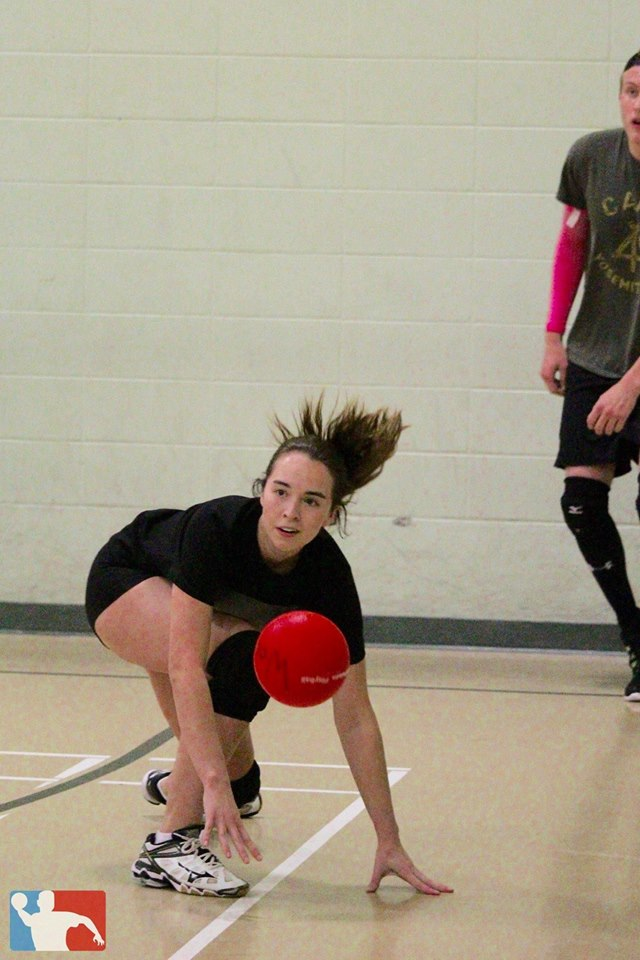red ball: (252, 605, 354, 708)
